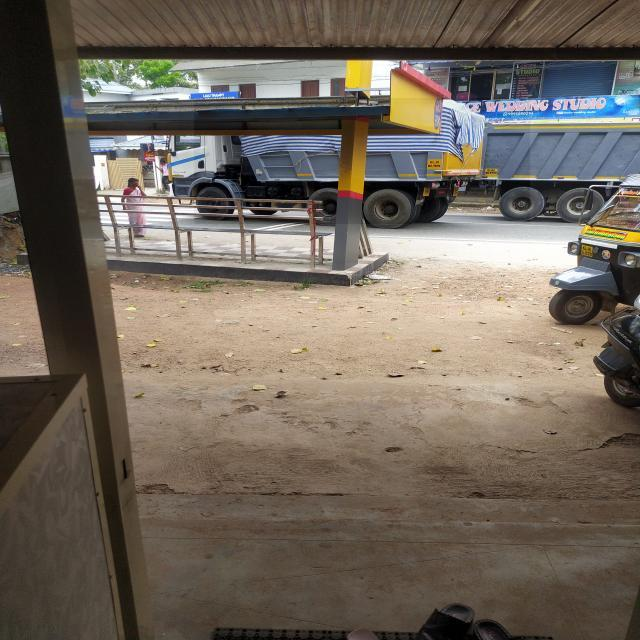Truck: (194, 98, 530, 224)
